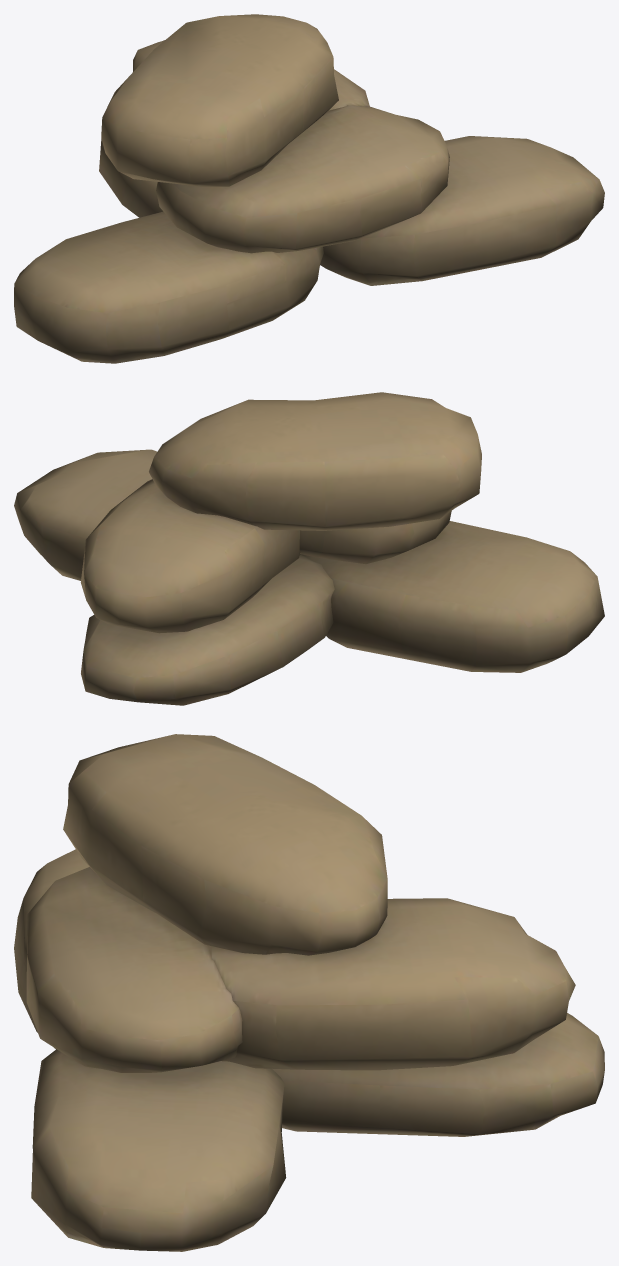
The model's file is sandbag_stack-low.glb.
3 renders of one model, top to bottom at view 1: azimuth 30°, elevation 25°; view 2: azimuth 150°, elevation 25°; view 3: azimuth 270°, elevation 25°, orthographic. The views are drawn at different scales.
Visible parts, largest first — view 1: sandbag_stack; view 2: sandbag_stack; view 3: sandbag_stack.
Boxes of the visible parts, x1,y1,x2,y2 form: sandbag_stack: (14,14,604,363); sandbag_stack: (14,392,604,705); sandbag_stack: (14,734,604,1251).
Bounding box in the file's own units: 1.1 × 0.4073 × 0.7784.
1 material, 1 textured.
